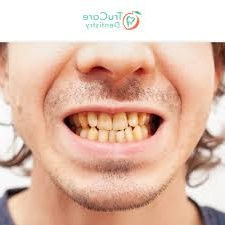Tooth Discoloration: (78, 112, 153, 143)
